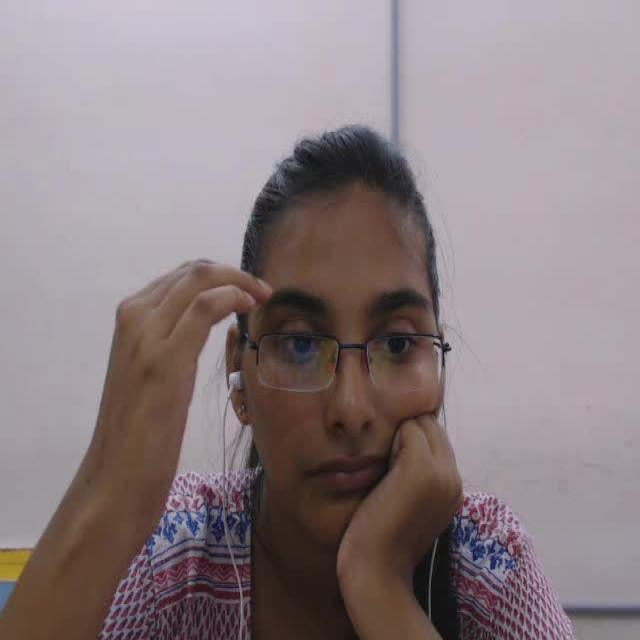Bored: (209, 91, 470, 616)
